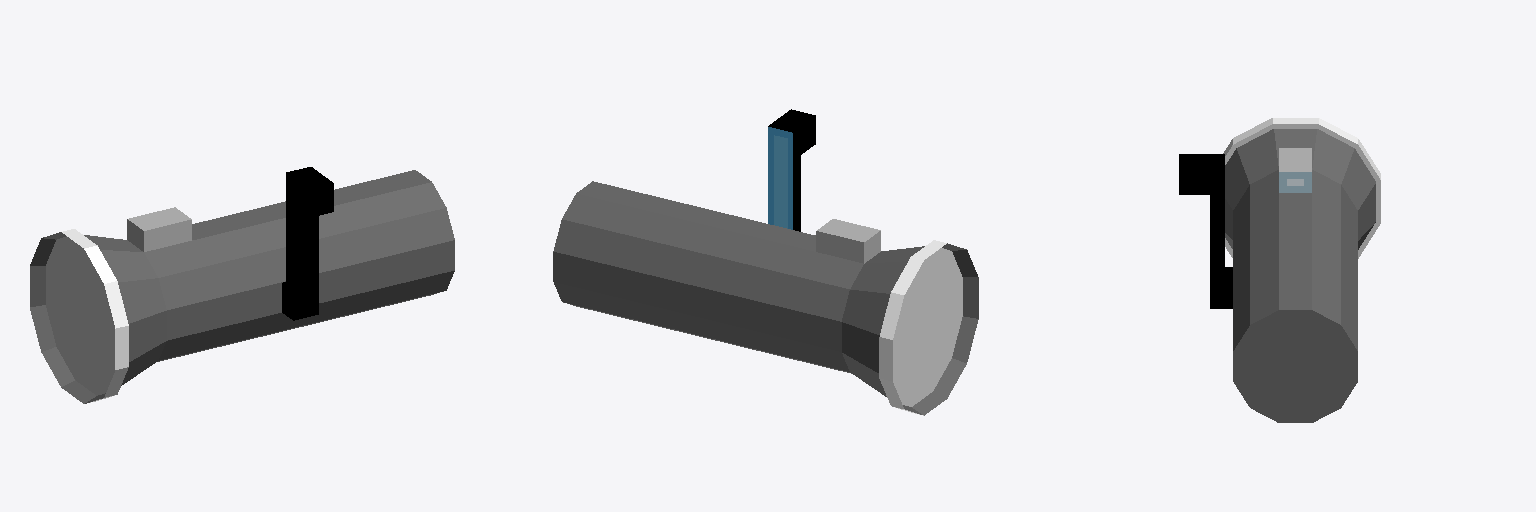
3 views of the same model, side by side, from view 1: azimuth 30°, elevation 25°; view 2: azimuth 150°, elevation 25°; view 3: azimuth 270°, elevation 25° (orthographic).
Parts seen in each view (by area): view 1: cylinder; view 2: cylinder; view 3: cylinder.
Boxes of the visible parts, box(x1,y1,x2,y2) form: cylinder: box(30, 167, 454, 403); cylinder: box(553, 109, 978, 415); cylinder: box(1179, 118, 1380, 422).
Bounding box in the file's own units: 3.25 × 1.82 × 1.62.
Materials: 1 (1 with a texture image).